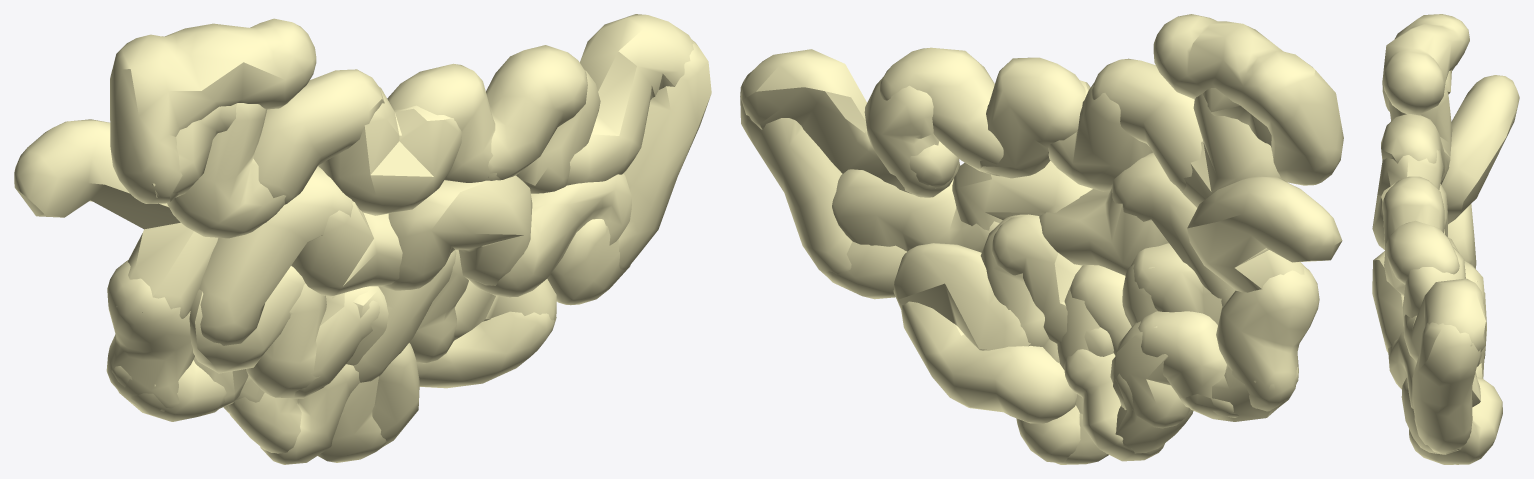
File: ileum.glb
3 renders of one model, left to right at view 1: azimuth 30°, elevation 25°; view 2: azimuth 150°, elevation 25°; view 3: azimuth 270°, elevation 25°, orthographic. The views are drawn at different scales.
Visible parts, largest first — view 1: FJ877_BP4615_FMA7208_Ileum; view 2: FJ877_BP4615_FMA7208_Ileum; view 3: FJ877_BP4615_FMA7208_Ileum.
Part boxes in pixels (<box>): FJ877_BP4615_FMA7208_Ileum: <box>14,14,711,464</box>; FJ877_BP4615_FMA7208_Ileum: <box>740,14,1343,464</box>; FJ877_BP4615_FMA7208_Ileum: <box>1372,14,1519,464</box>.
Bounding box in the file's own units: 0.5224 × 0.3684 × 0.1329.
